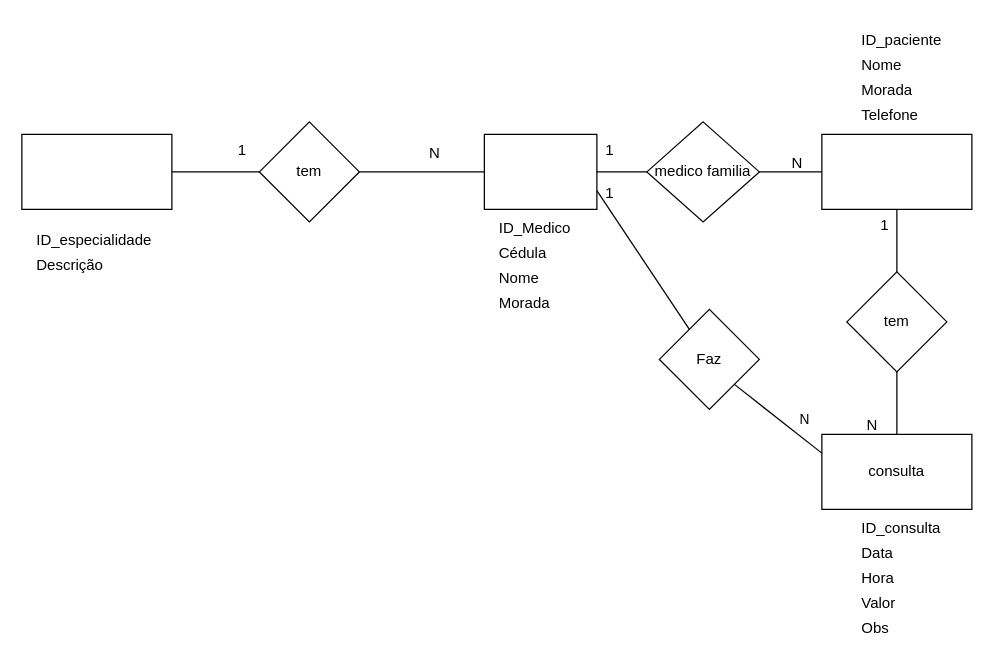
Image size: 994x668. Some labels were removed from this diagram. Here are the shapes that lost their labels. From the top down, the box of each, then its label:
(21, 133, 172, 209): especialidade
(483, 133, 597, 209): médico
(821, 133, 972, 209): paciente
